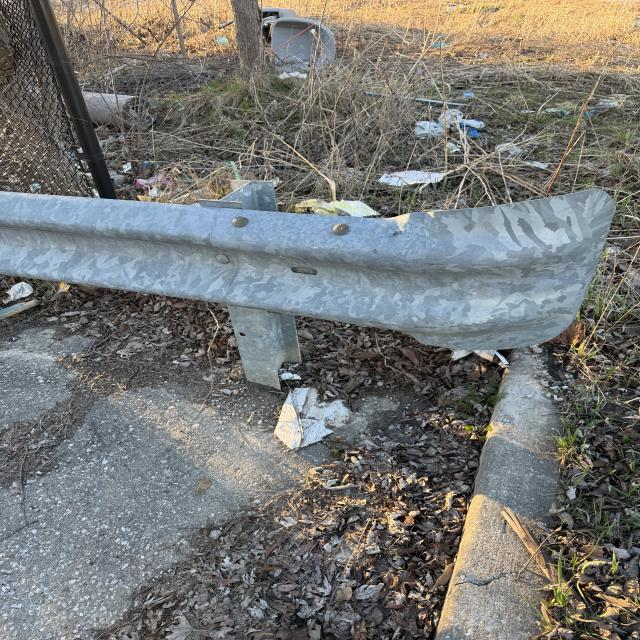Guard rail: (6, 190, 591, 335)
